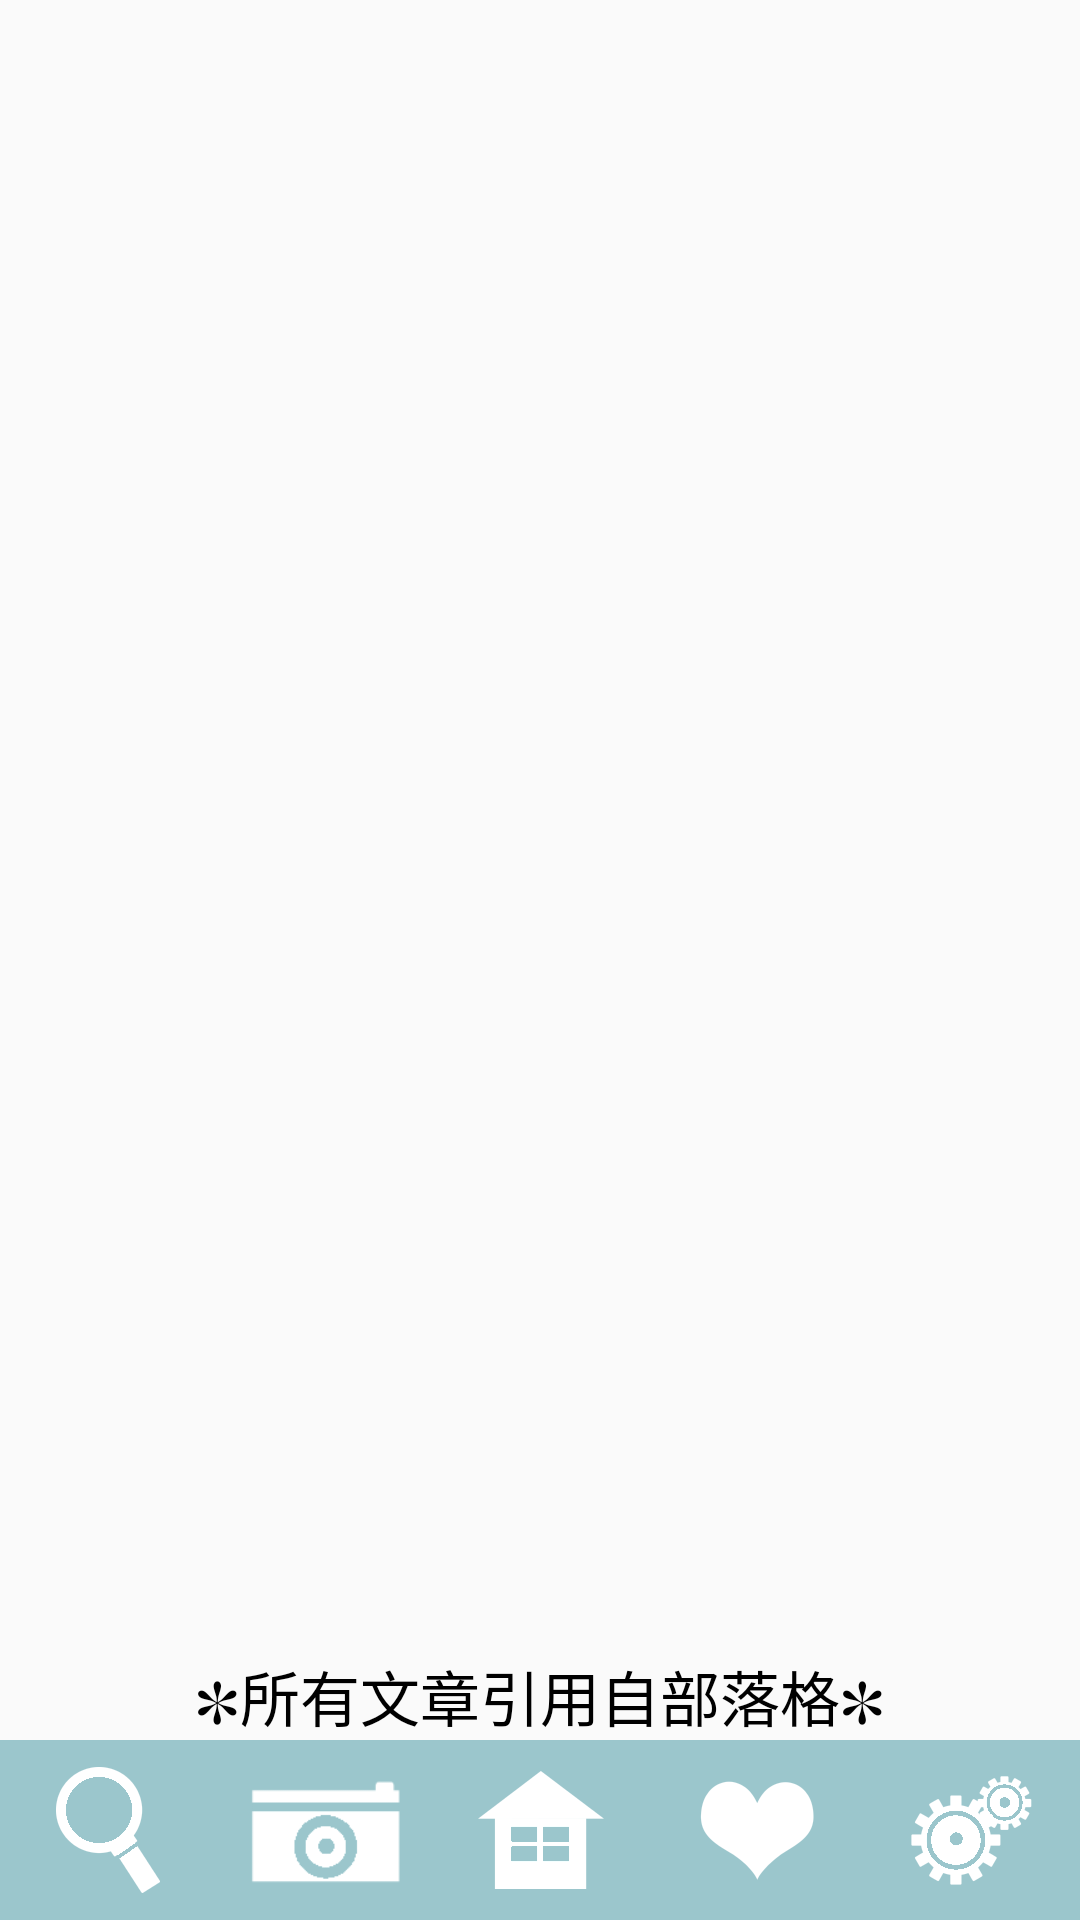

Where to tap for icons on this 1080w x 1920h app screen, as (x=x, y=y):
home: (x=541, y=1830)
like: (x=757, y=1830)
search: (x=108, y=1830)
setting: (x=971, y=1830)
